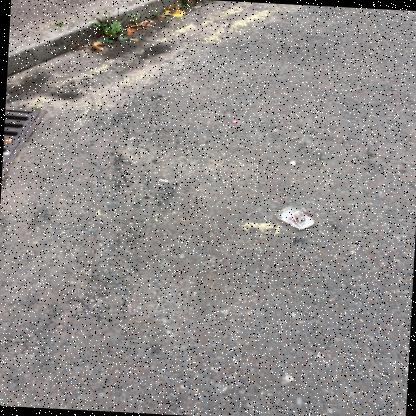Cigarette: (129, 38, 138, 41), (70, 66, 75, 70)
Disposable plastic cup: (276, 205, 314, 229)
Other plastic bottle: (231, 119, 237, 123)
